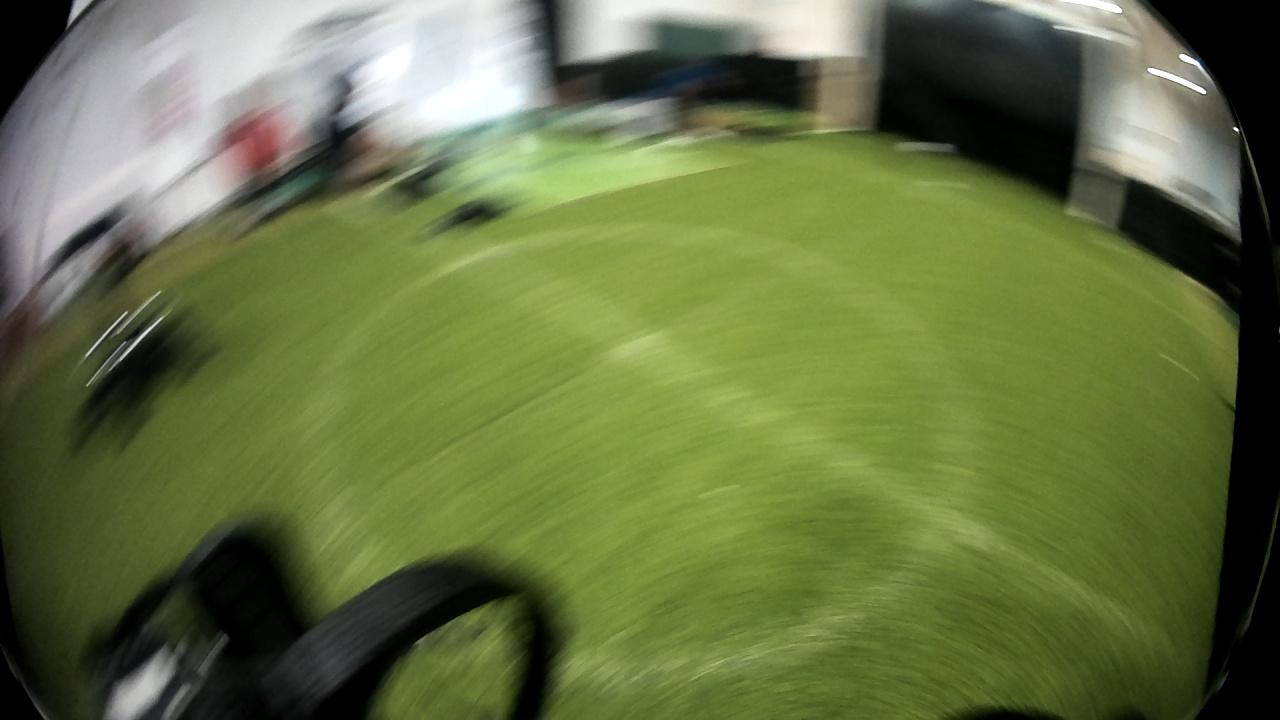ball: (894, 137, 960, 154)
